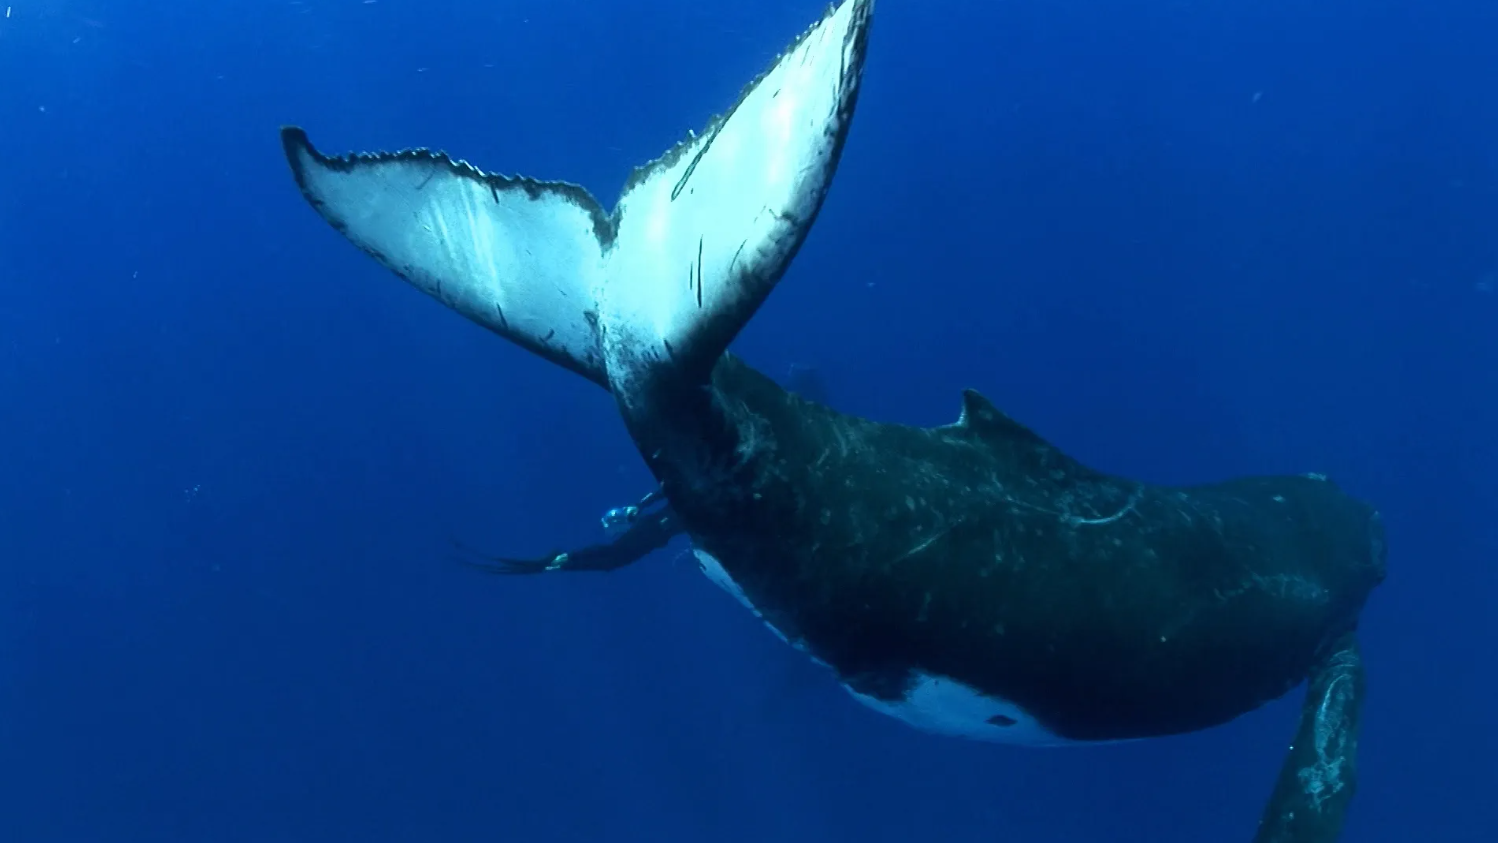Humpback whale: (277, 1, 1389, 828)
